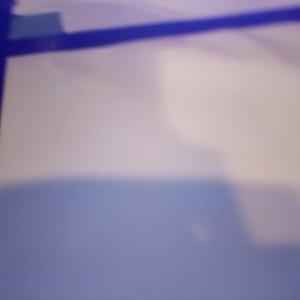top_right: (1, 11, 61, 50)
